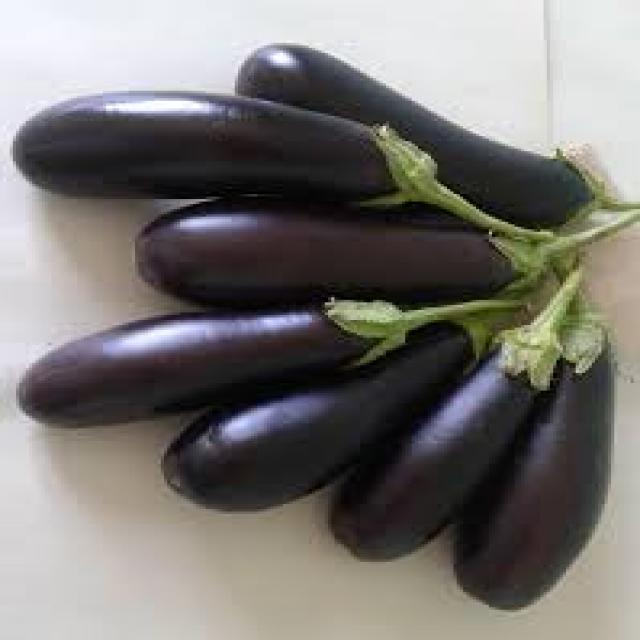eggplant: (0, 87, 640, 244), (130, 305, 518, 521), (1, 286, 486, 433), (352, 270, 556, 616), (513, 293, 640, 640), (91, 209, 590, 295)
